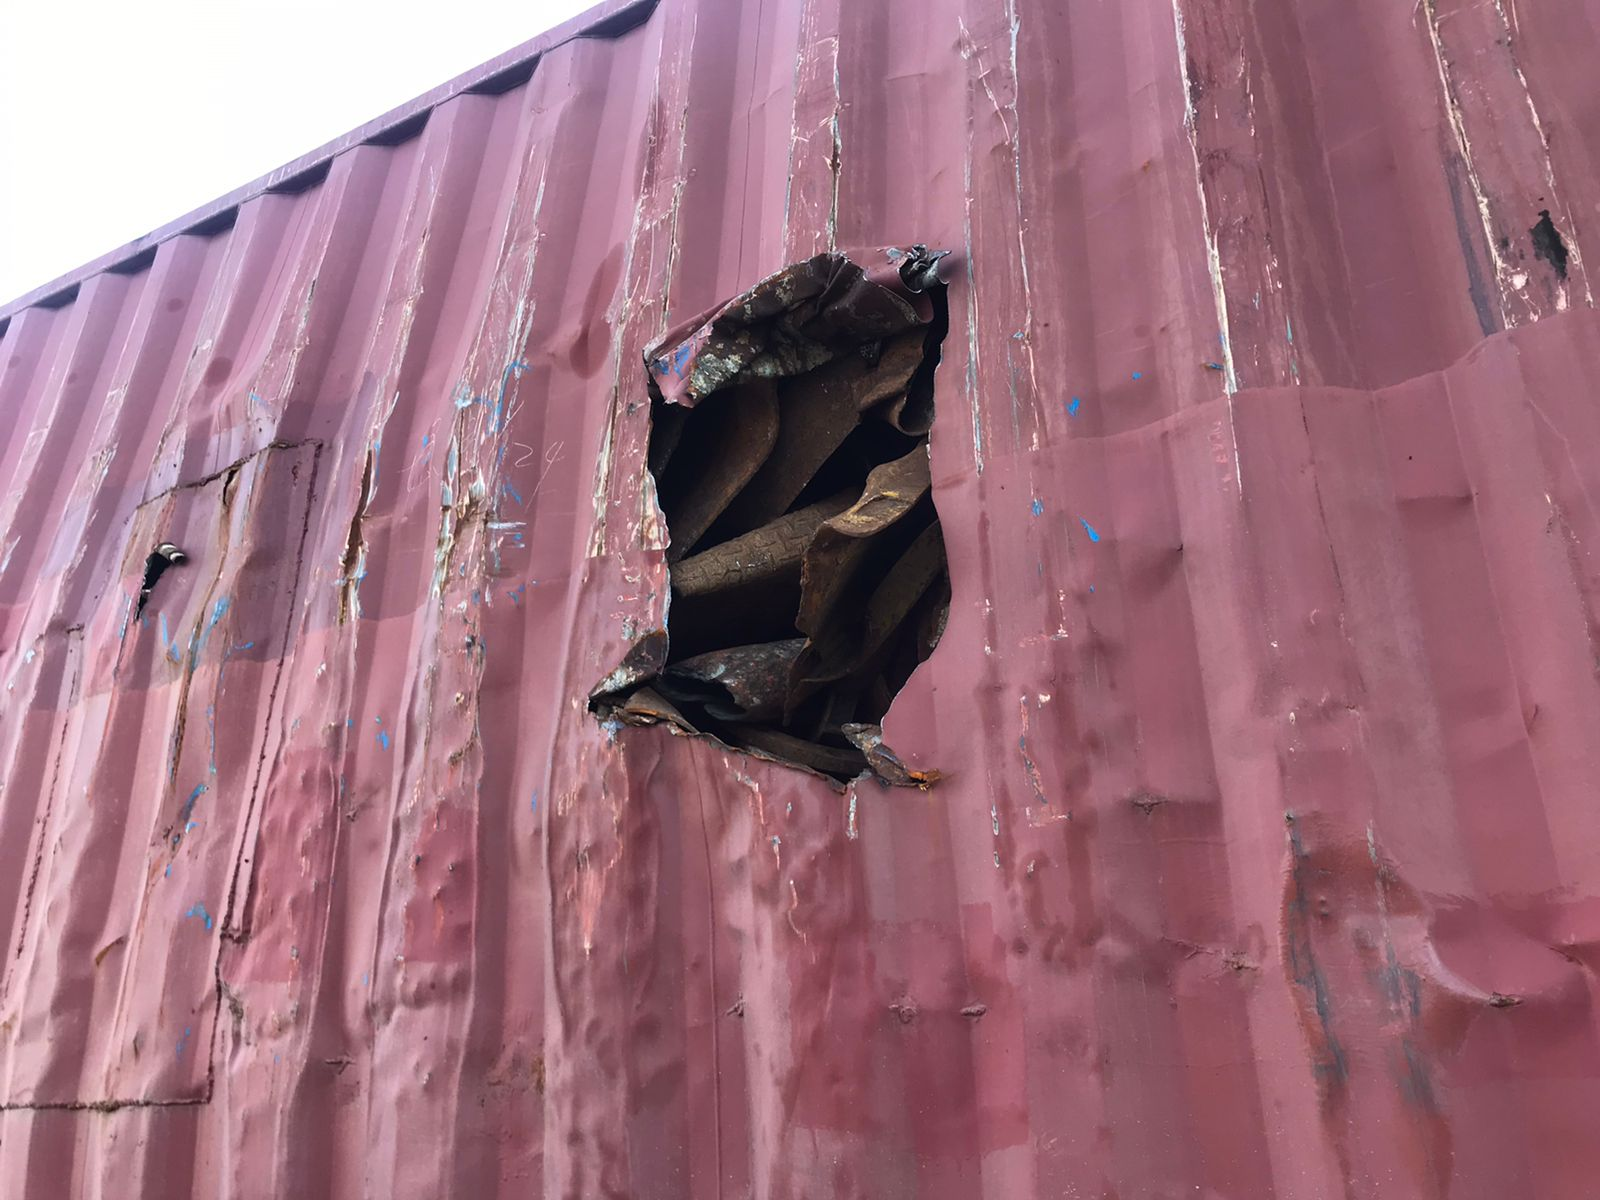bulged: (184, 700, 620, 1095), (1296, 808, 1543, 1063)
cut: (553, 268, 1044, 834), (86, 459, 226, 624), (348, 432, 430, 620)
